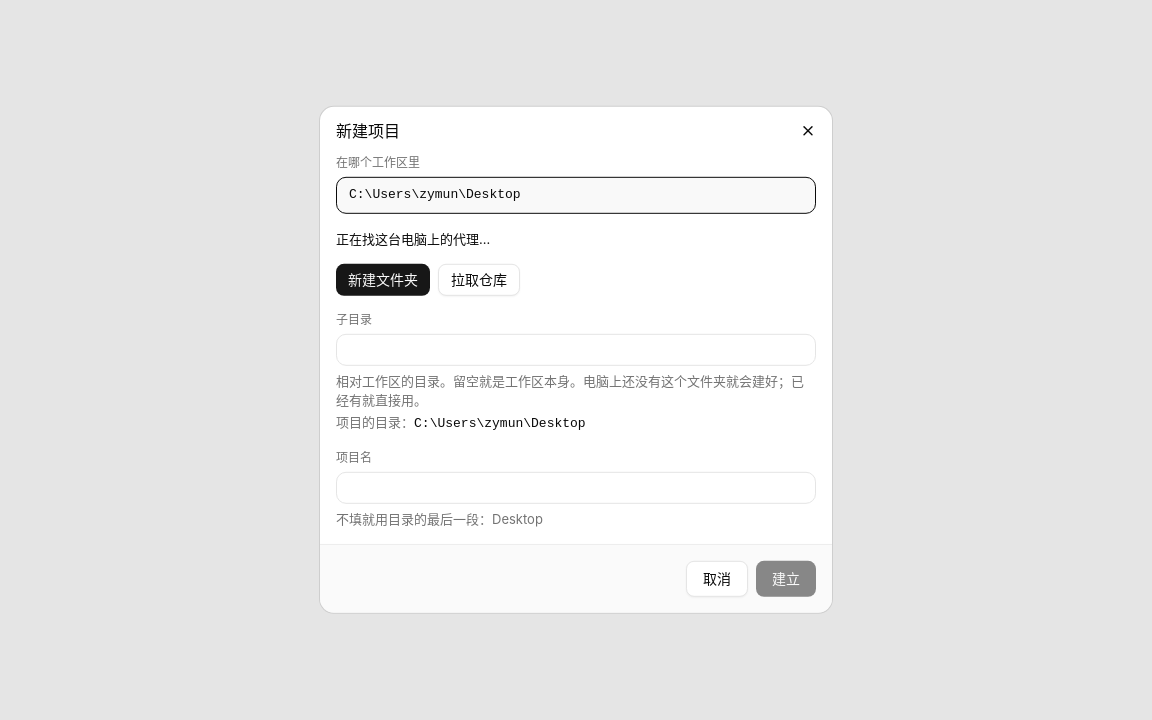
新建项目：先请电脑上的代理建好，再登记（0024） › 拉取失败说出原因，不登记
Click the button "拉取仓库" at {"x": 479, "y": 280}, box [438, 264, 520, 296]
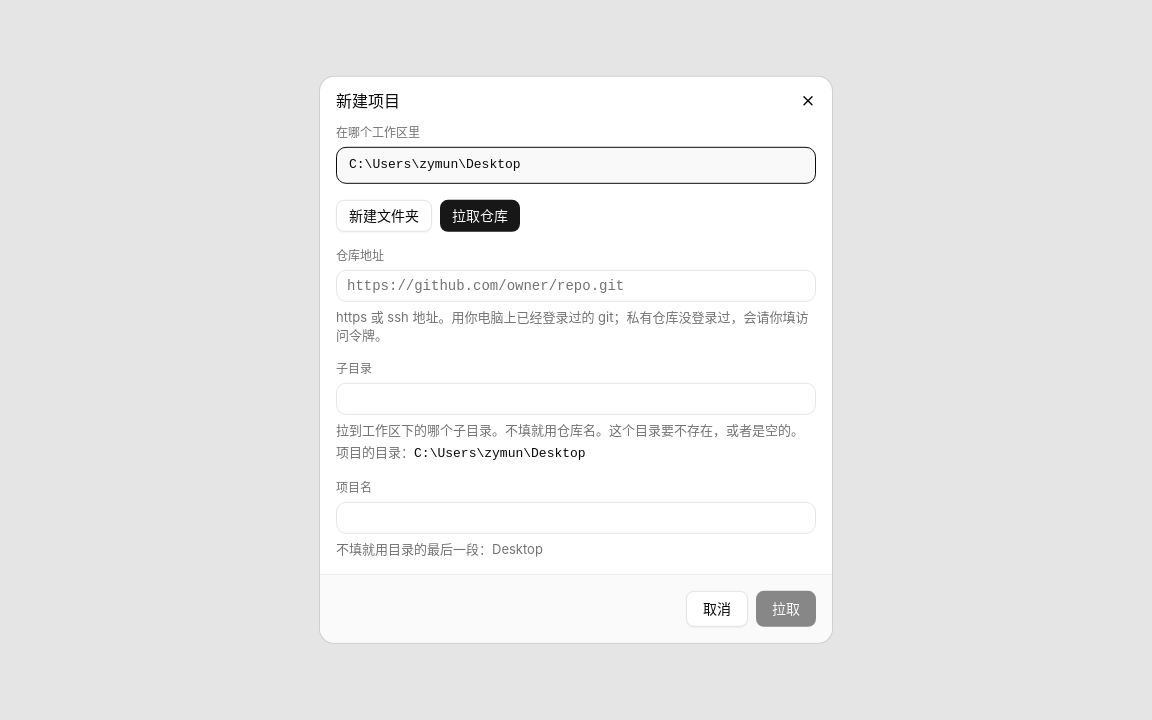
Type "git@example.com:team/report.git" into the field labelled "仓库地址" at {"x": 576, "y": 285}, box [336, 269, 816, 301]
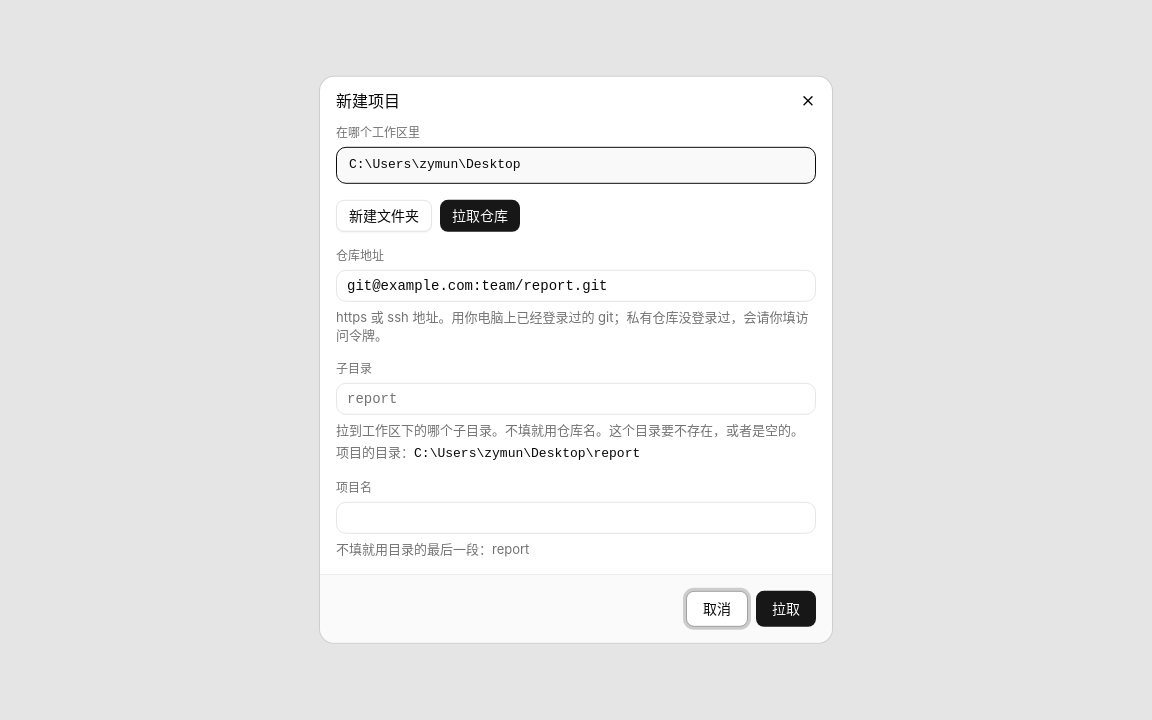
Expected: the button "拉取" is enabled
Click the button "拉取" at {"x": 786, "y": 609}, box [756, 591, 816, 627]
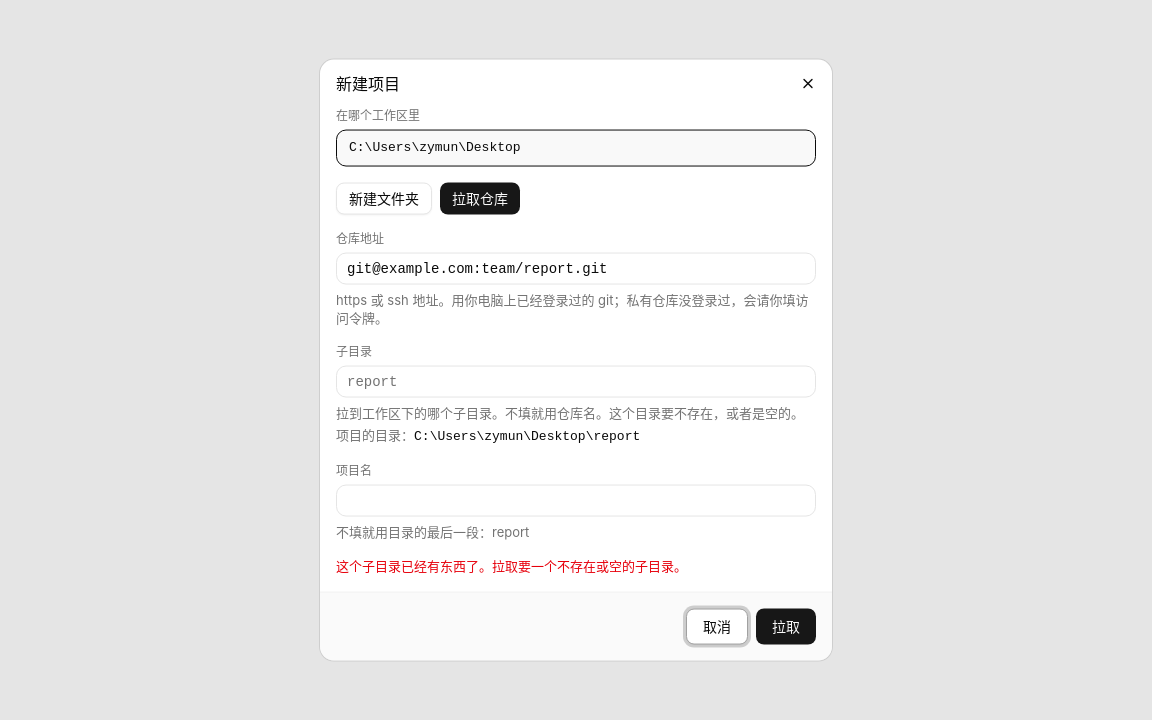
Expected: the text "这个子目录已经有东西了。拉取要一个不存在或空的子目录。" is shown, [336, 558, 687, 574]
